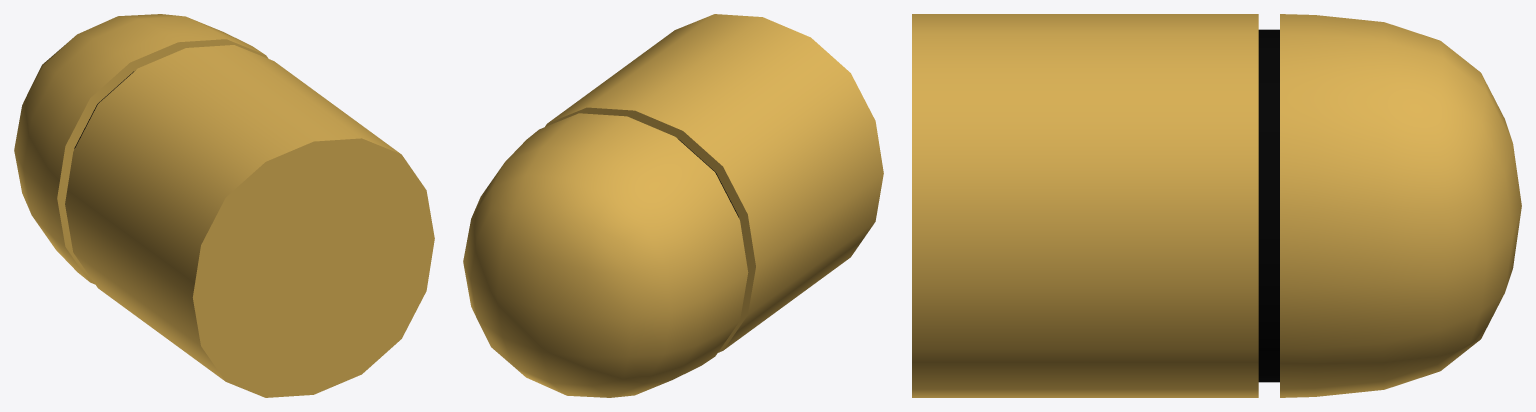
Rendered from bullet.fbx.
3 renders of one model, left to right at view 1: azimuth 30°, elevation 25°; view 2: azimuth 150°, elevation 25°; view 3: azimuth 270°, elevation 25°, orthographic. The views are drawn at different scales.
Parts seen in each view (by area): view 1: Cube; view 2: Cube; view 3: Cube.
Part boxes in pixels (left/top/right/bottom): Cube: left=14, top=14, right=434, bottom=397; Cube: left=463, top=14, right=883, bottom=397; Cube: left=912, top=14, right=1521, bottom=397.
Bounding box in the file's own units: 183 × 183 × 295.
